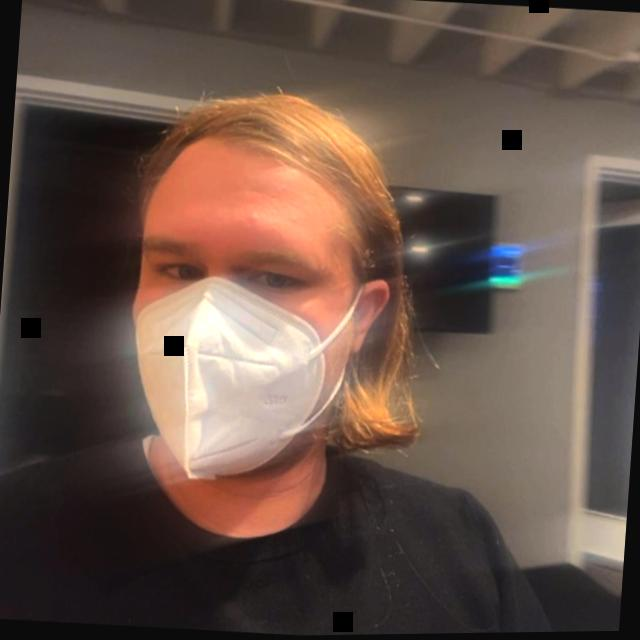Mask: (82, 82, 442, 562)
